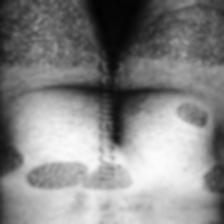Non-Cancerous Skin Condition: (12, 155, 219, 224), (127, 0, 224, 146)
